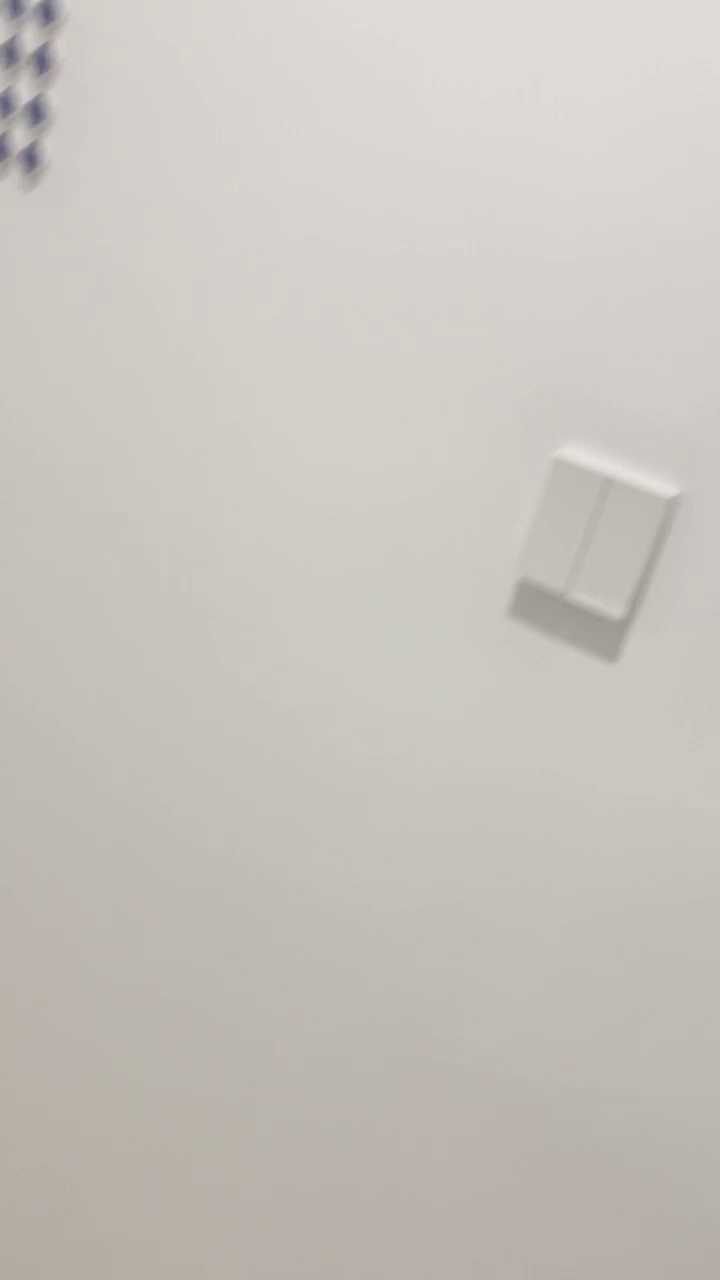button: (511, 442, 687, 625)
